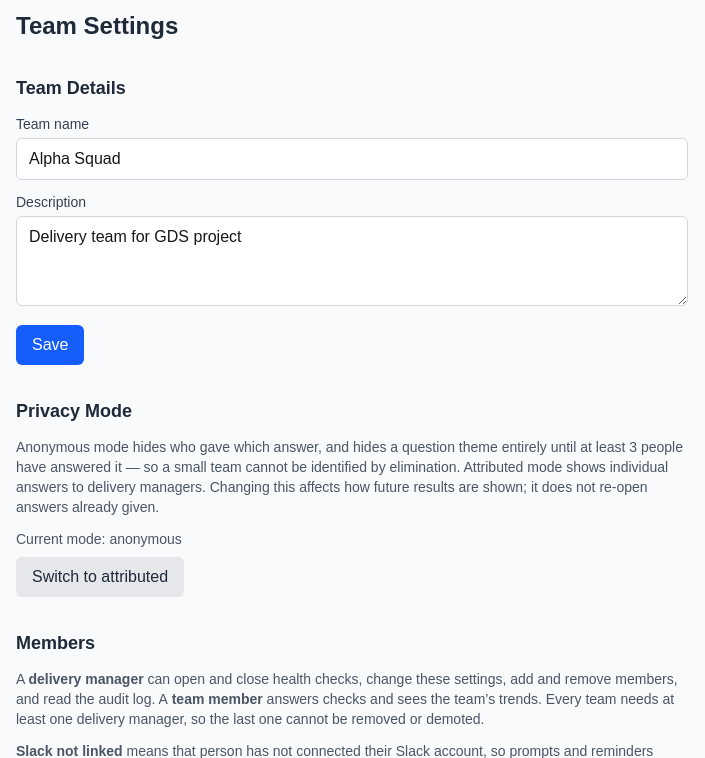
Test case: Team Settings Page › Privacy Mode Section (Req 14.4) › sends PATCH when confirming privacy mode change
Expected: the text "Current mode: anonymous" is shown, [16, 531, 182, 547]
Click the button "Switch to attributed".
click(100, 577)  # box [16, 557, 184, 597]
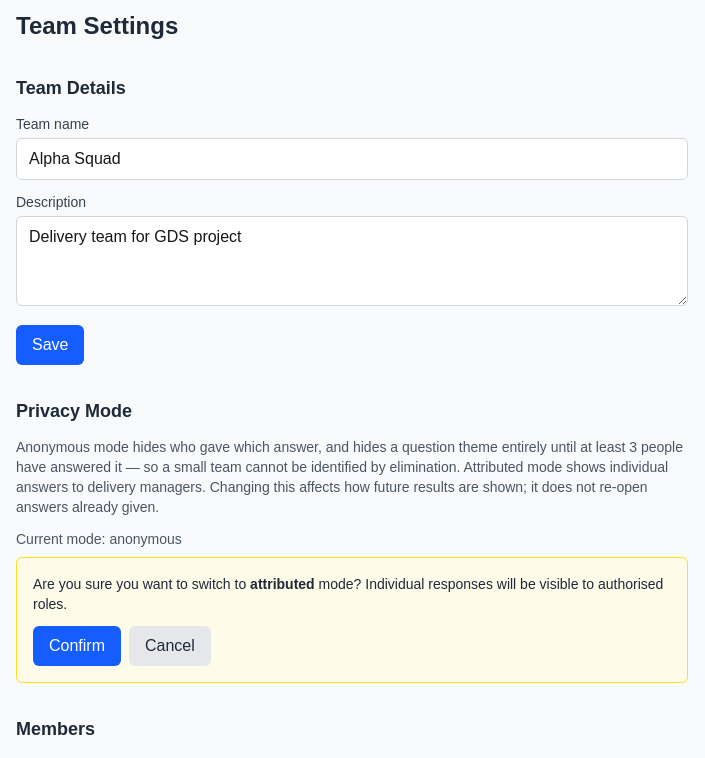
Click the button "Confirm".
click(77, 646)  # box [33, 626, 121, 666]
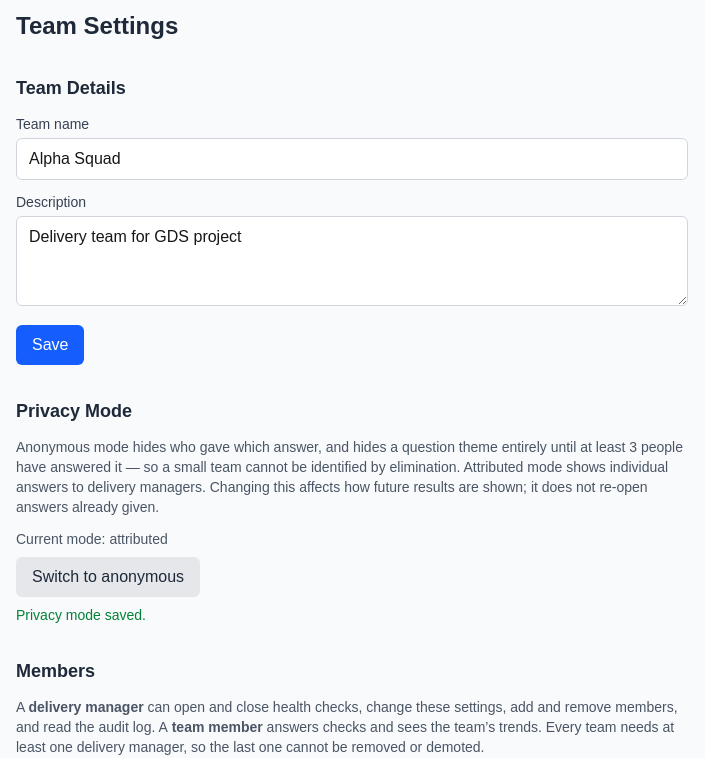
Expected: the text "Current mode: attributed" is shown, [16, 531, 168, 547]
Expected: the text "Privacy mode saved." is shown, [16, 607, 146, 623]
